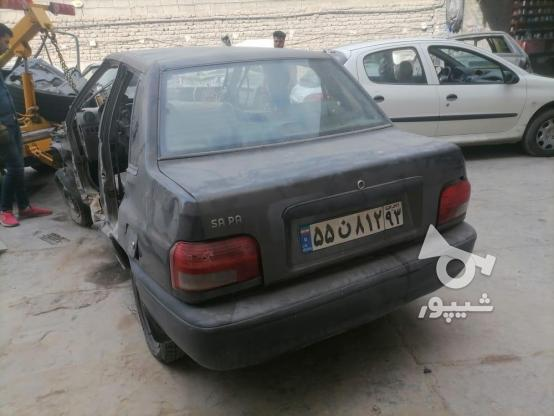car: (300, 198, 405, 262)
